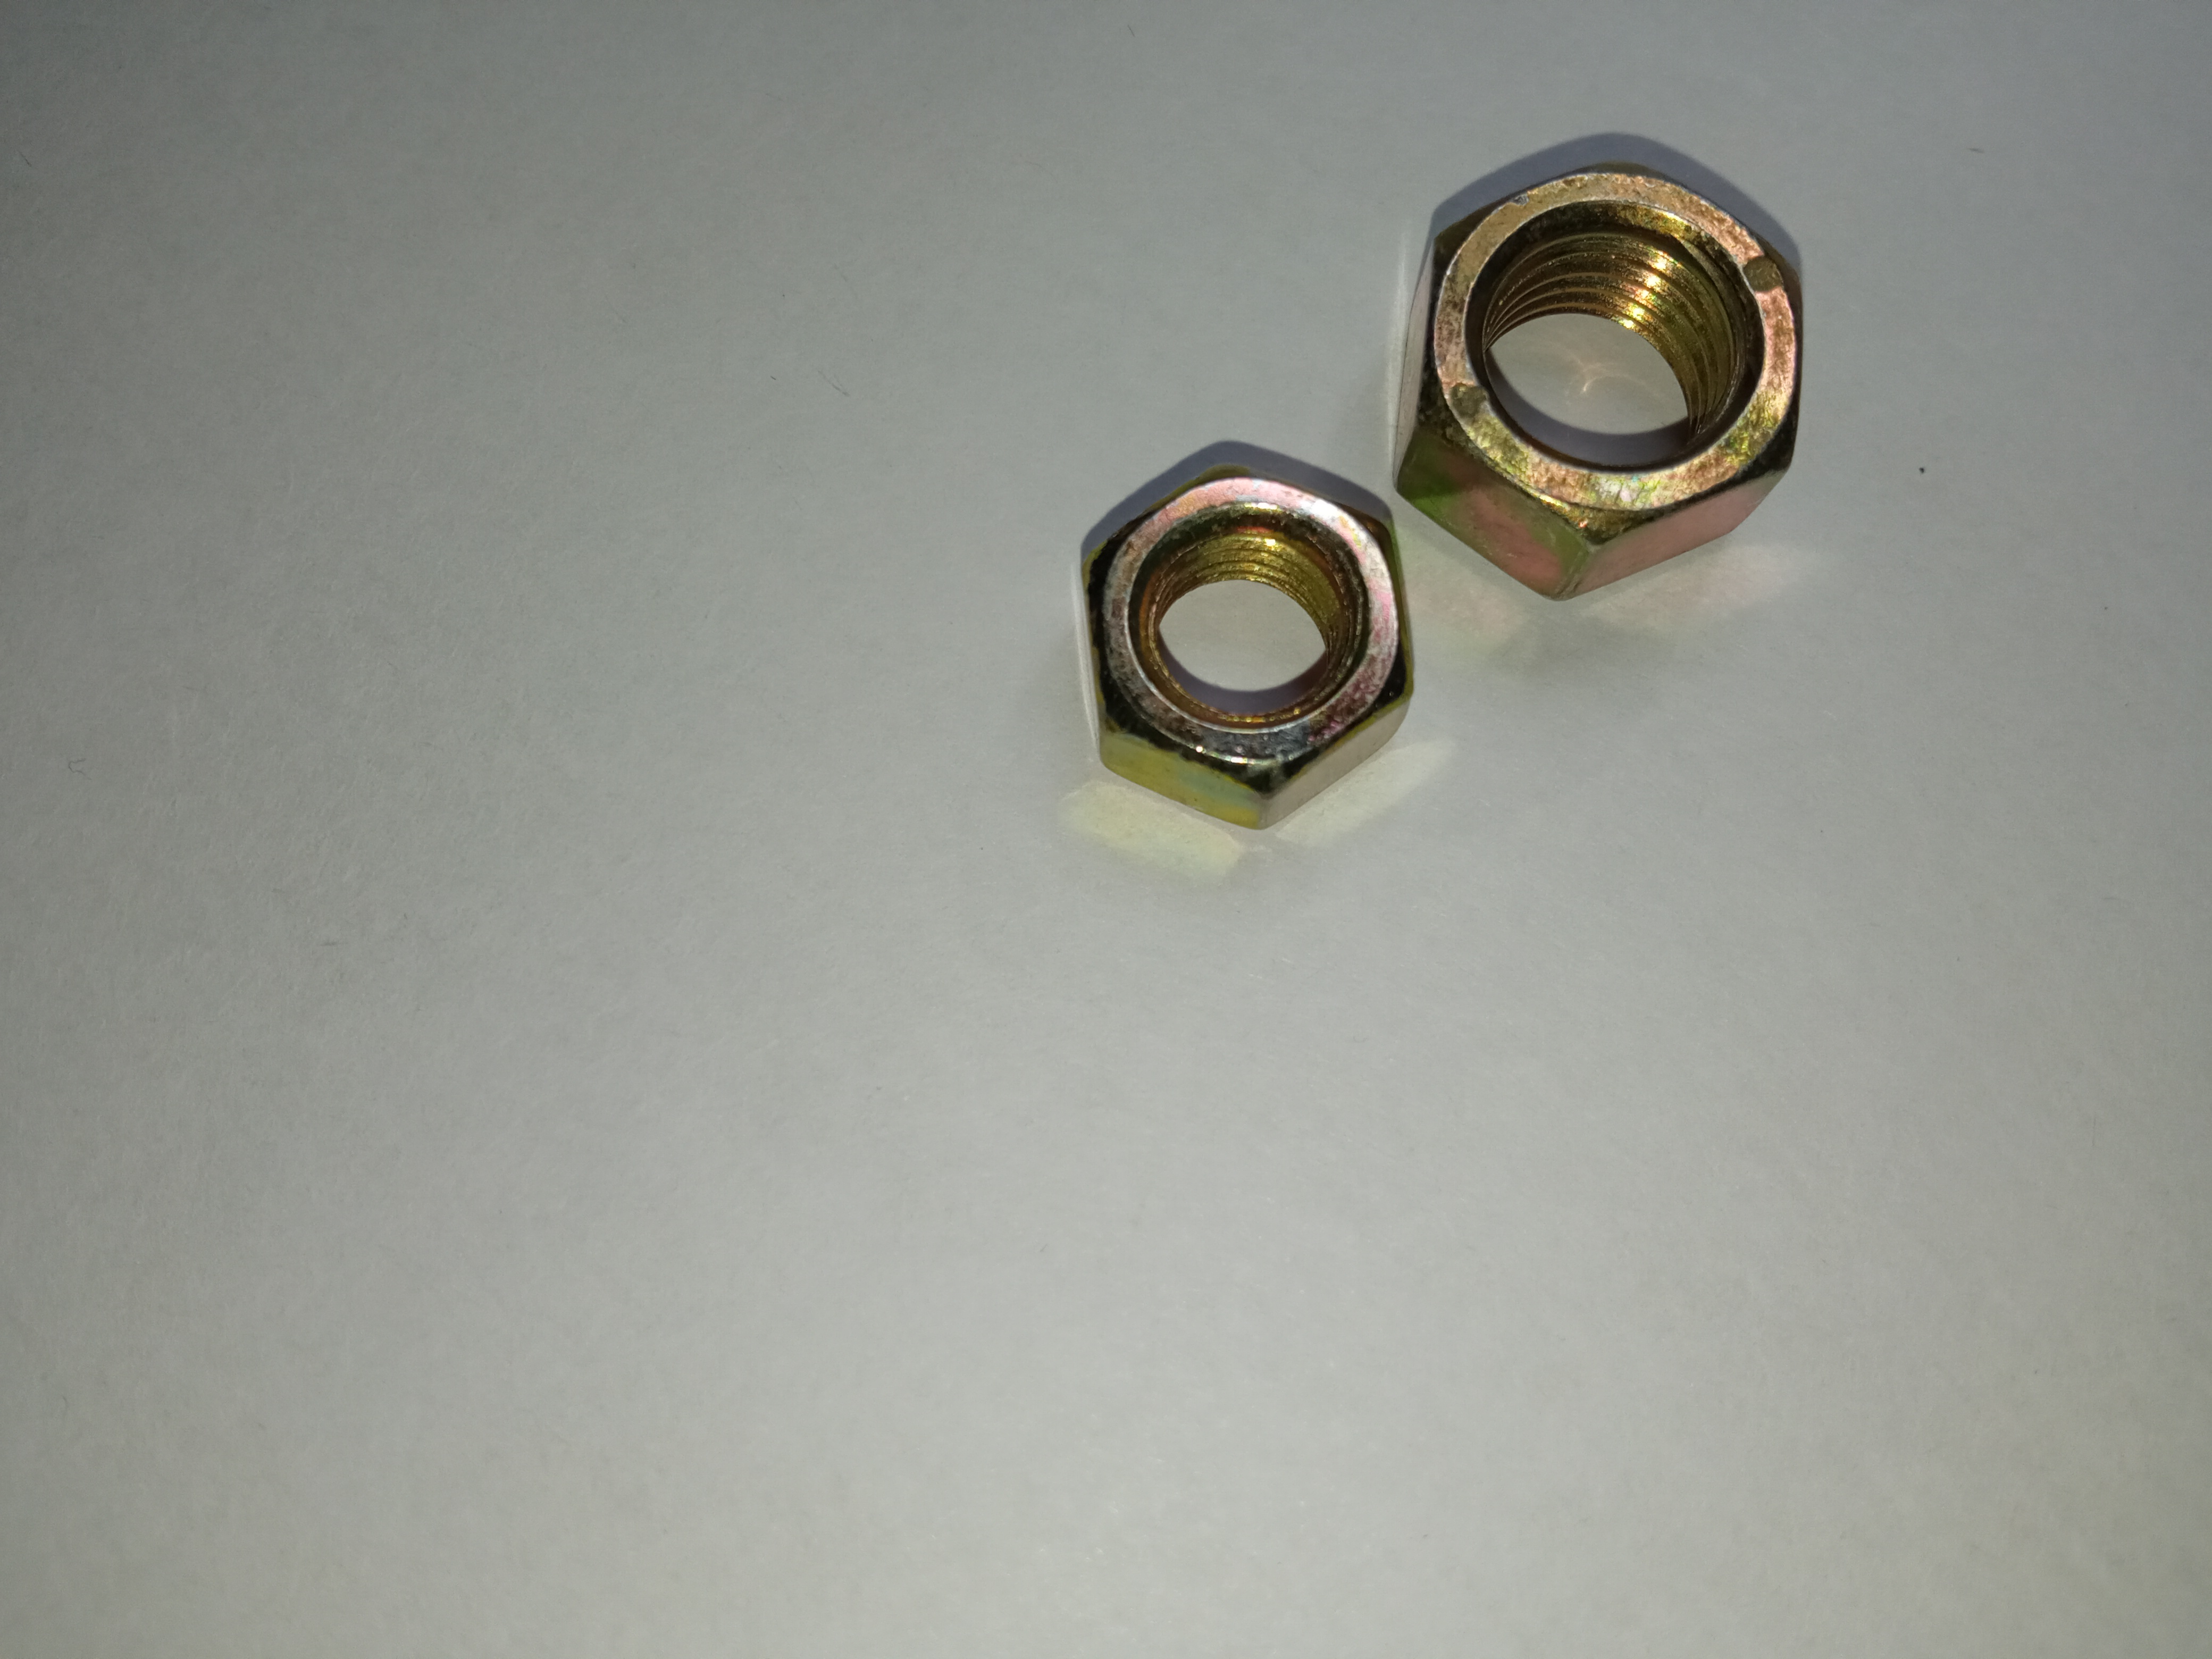m10: (1451, 166, 1808, 563)
m8: (1080, 462, 1409, 823)
